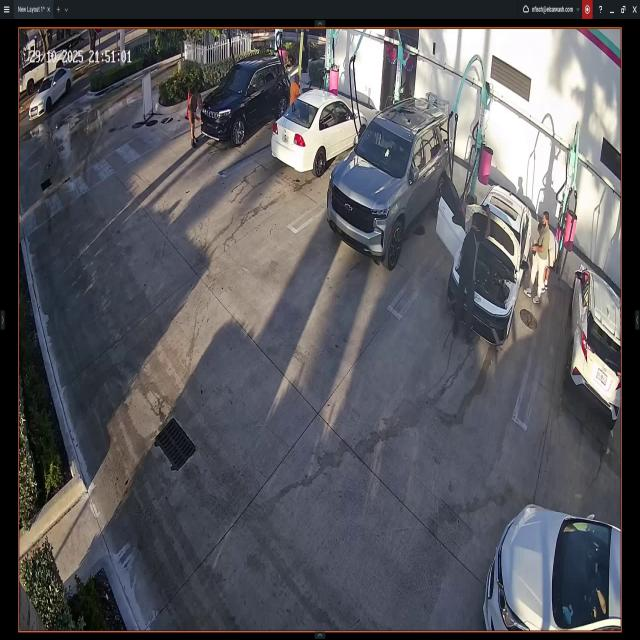Car: (328, 99, 454, 268), (483, 505, 621, 633), (438, 171, 534, 342), (271, 90, 367, 177), (569, 267, 621, 425), (200, 60, 291, 142), (29, 68, 70, 116)
